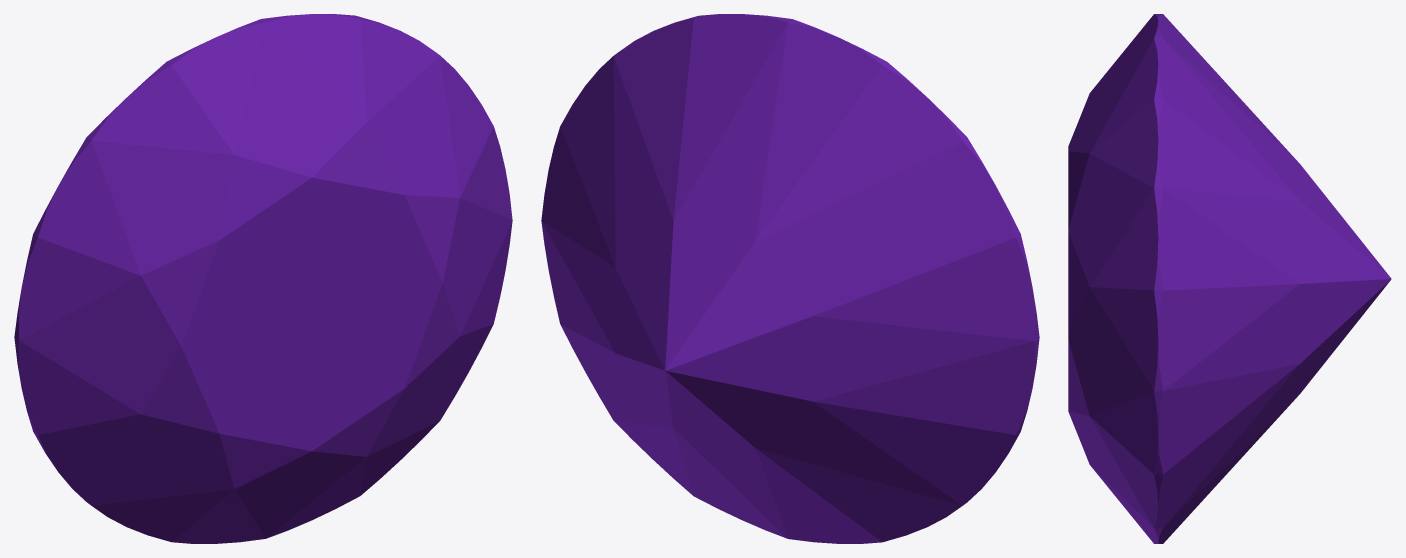
File: vivien.glb
3 views of the same model, side by side, from view 1: azimuth 30°, elevation 25°; view 2: azimuth 150°, elevation 25°; view 3: azimuth 270°, elevation 25° (orthographic). The views are drawn at different scales.
Visible parts, largest first — view 1: Vivien; view 2: Vivien; view 3: Vivien.
Part boxes in pixels (x1,y1,x2,y2): Vivien: (14,14,512,543); Vivien: (541,14,1039,543); Vivien: (1068,14,1391,543).
Bounding box in the file's own units: 2.12 × 2.12 × 1.3.
